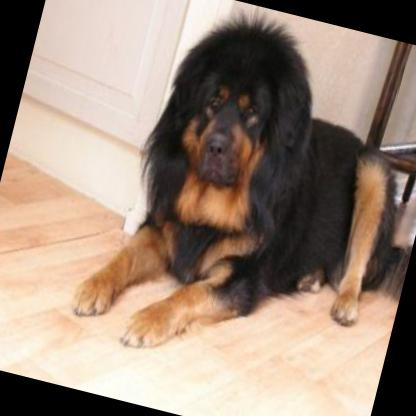Tibetan_mastiff: (61, 0, 416, 404)
